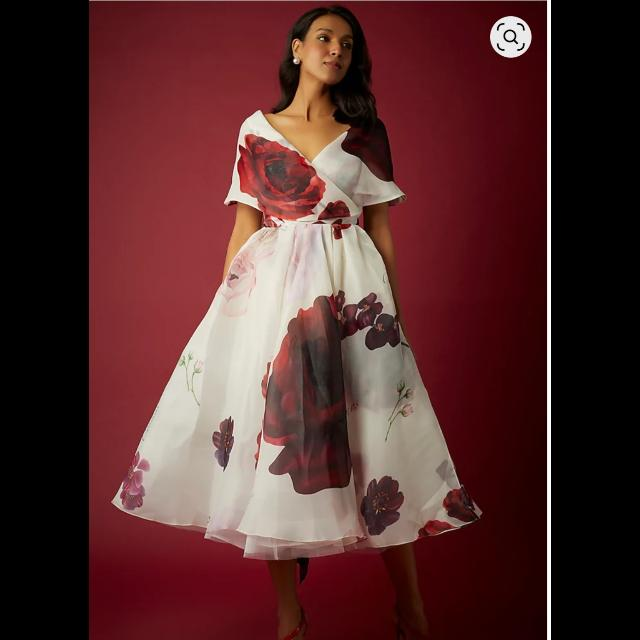dress: (114, 104, 484, 536)
ear ring: (290, 52, 302, 66)
